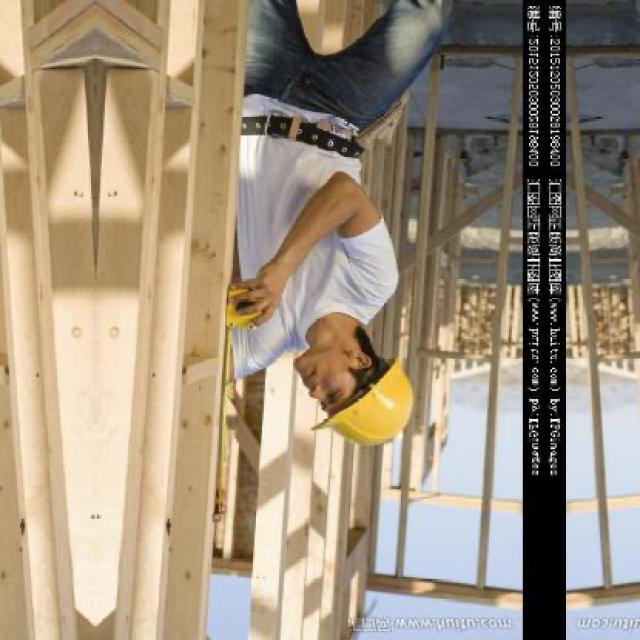con casco: (292, 256, 418, 474)
